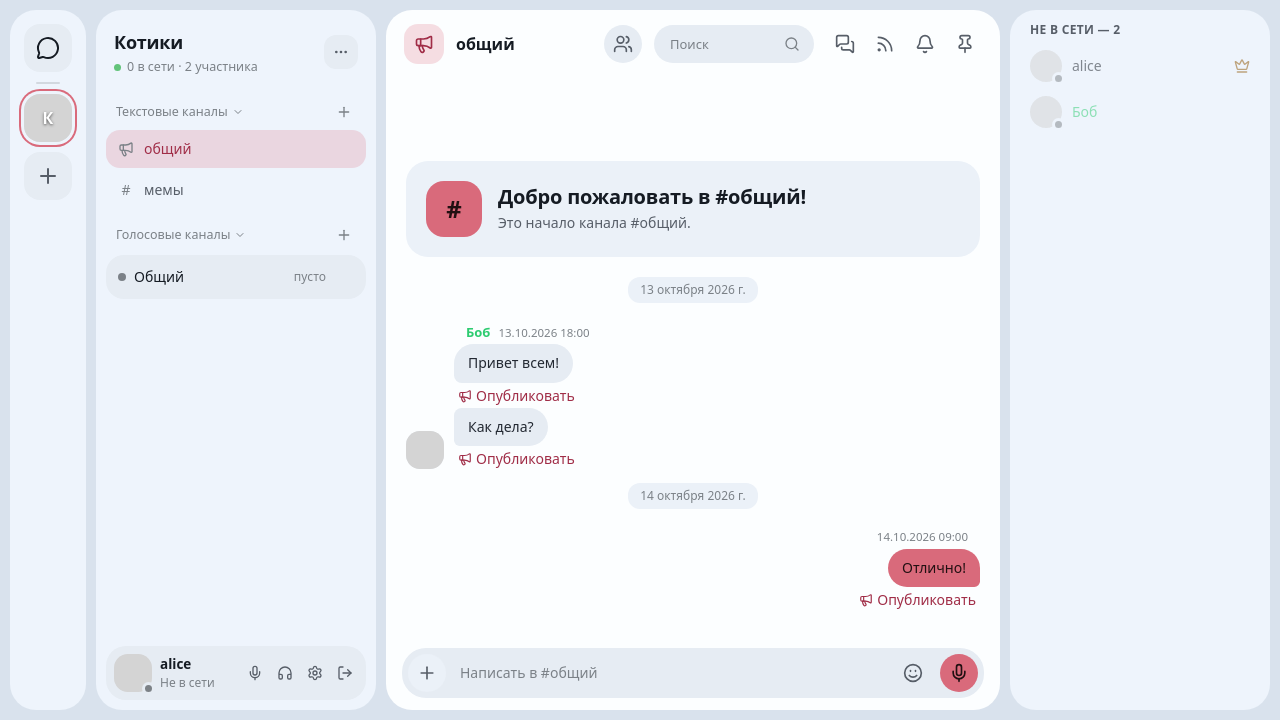
Test: announcement channels › are followed into a channel picked from one searchable list
Click the button named "Подписаться на канал".
click(885, 44)  # box [866, 25, 904, 63]
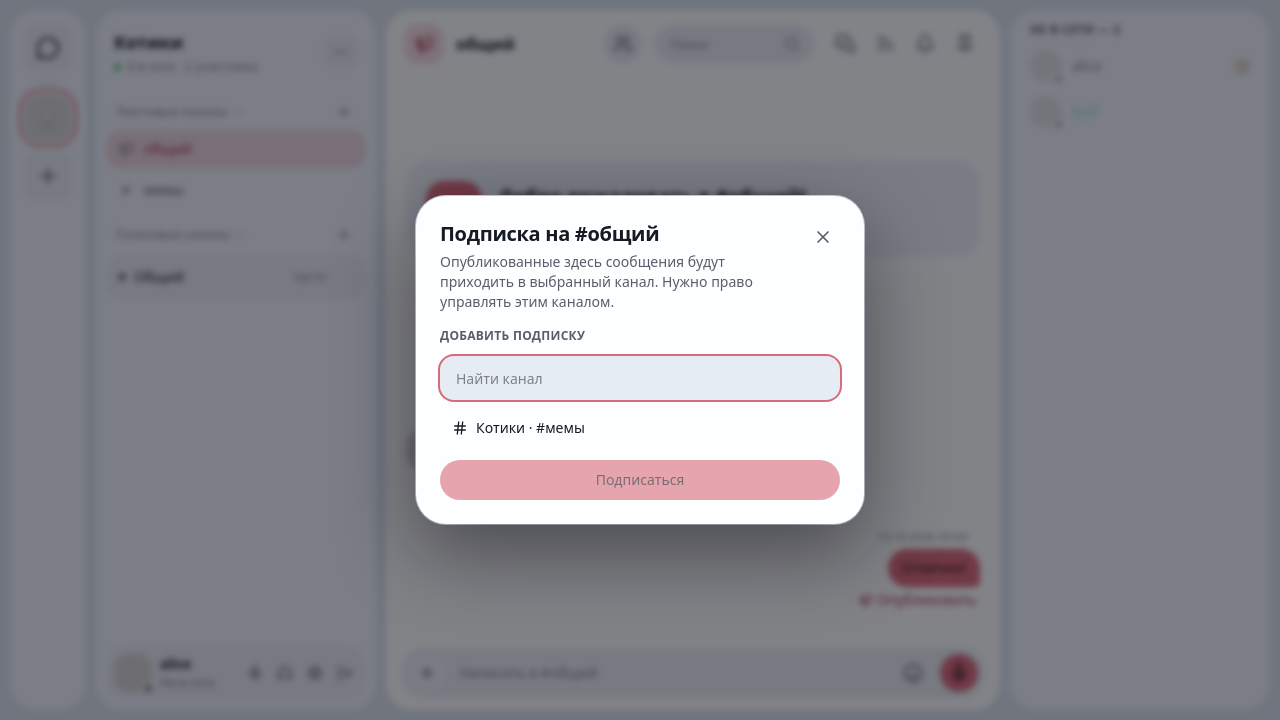
Type "мем" into the search field labelled "Найти канал".
click(640, 378); type("мем")  # box [440, 356, 840, 400]
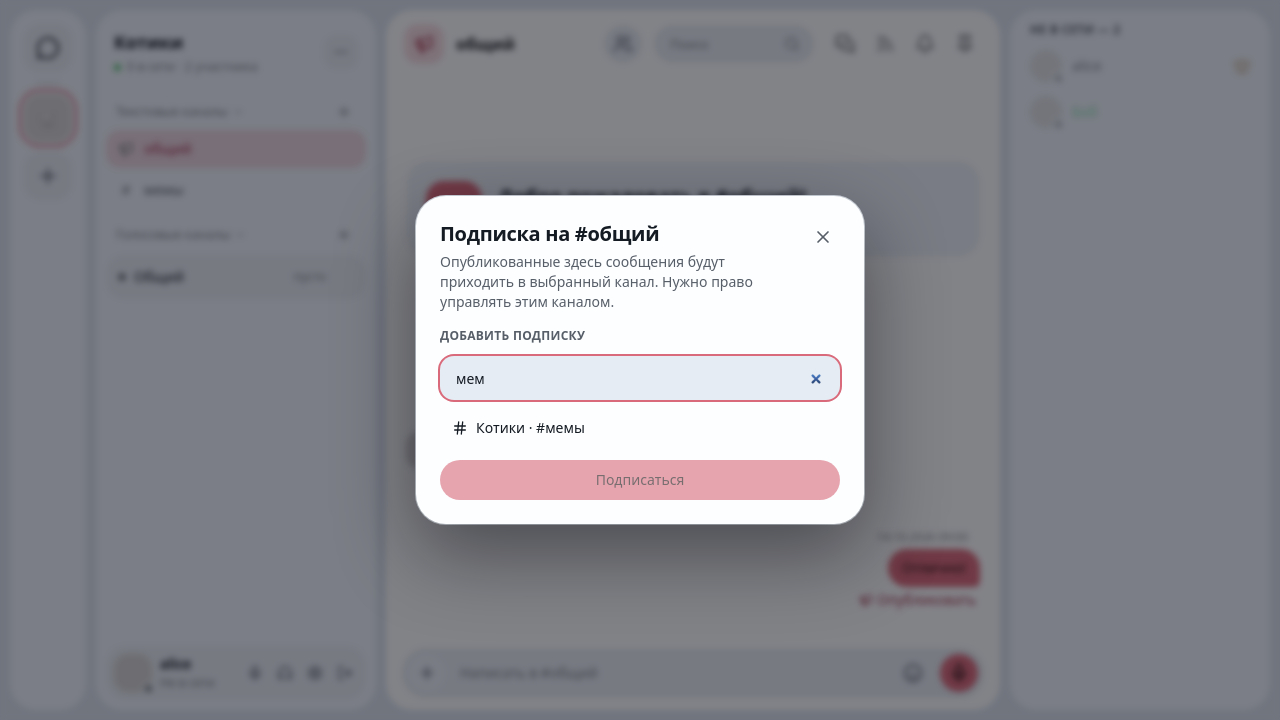
Click the option "Котики · #мемы".
click(518, 427)  # box [452, 418, 585, 437]
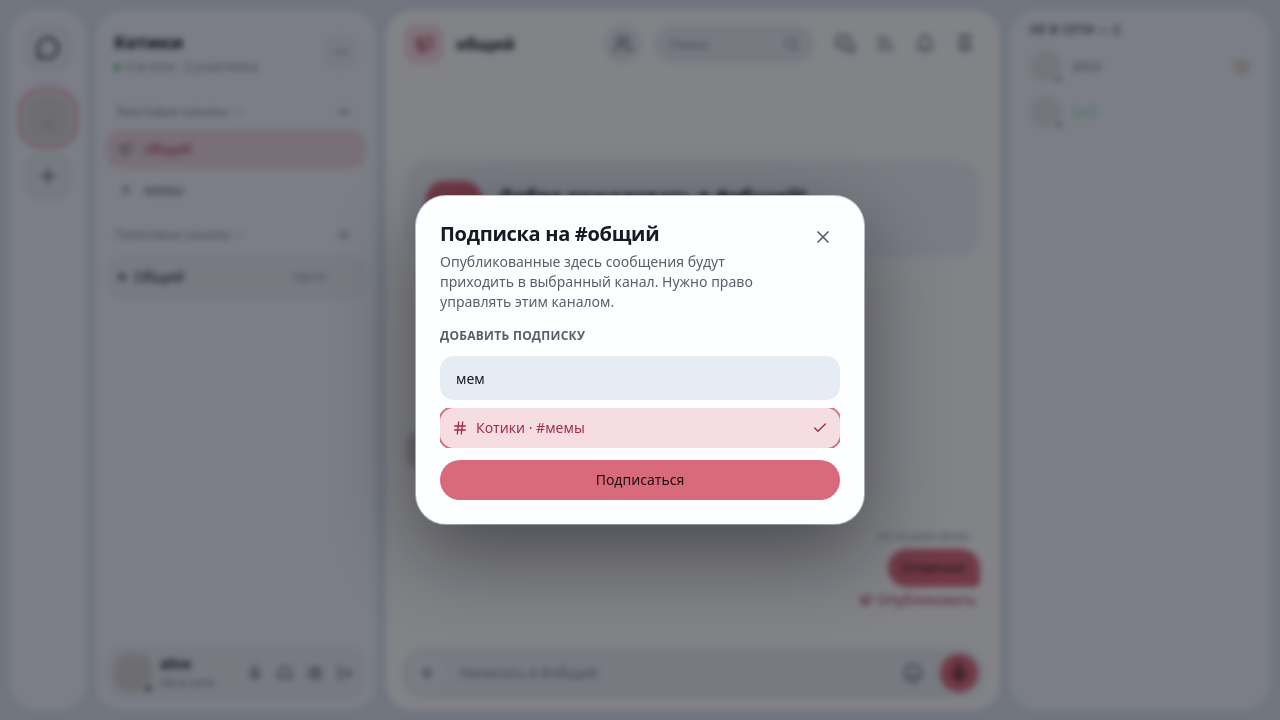
Click the button "Подписаться".
click(640, 480)  # box [440, 460, 840, 500]
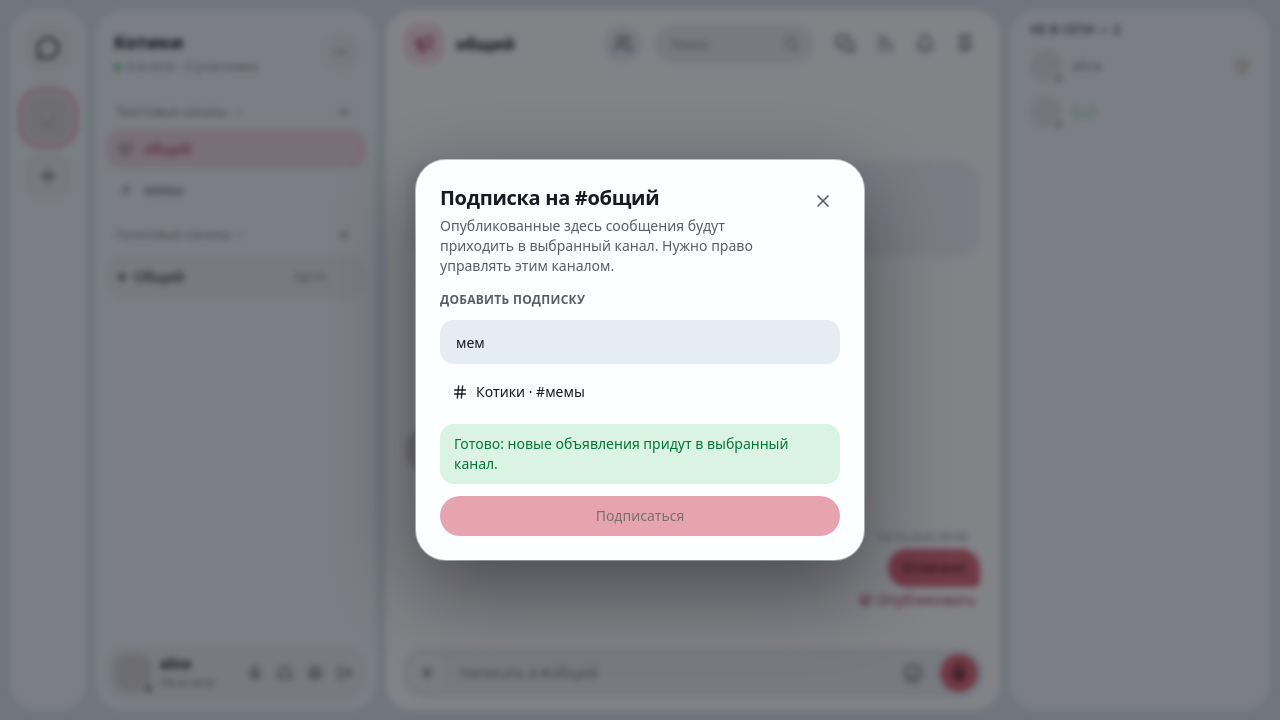
Now the text "Готово: новые объявления придут в выбранный канал." is shown, box [440, 424, 840, 484]
